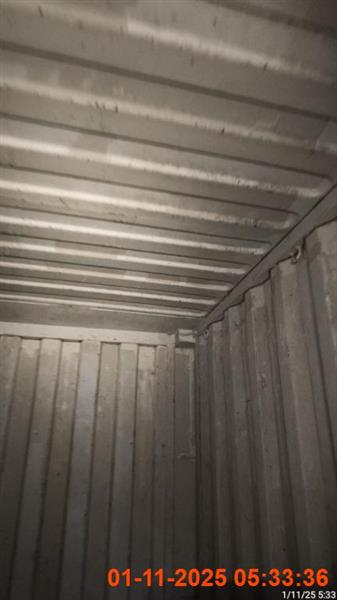broken: (1, 2, 334, 594)
